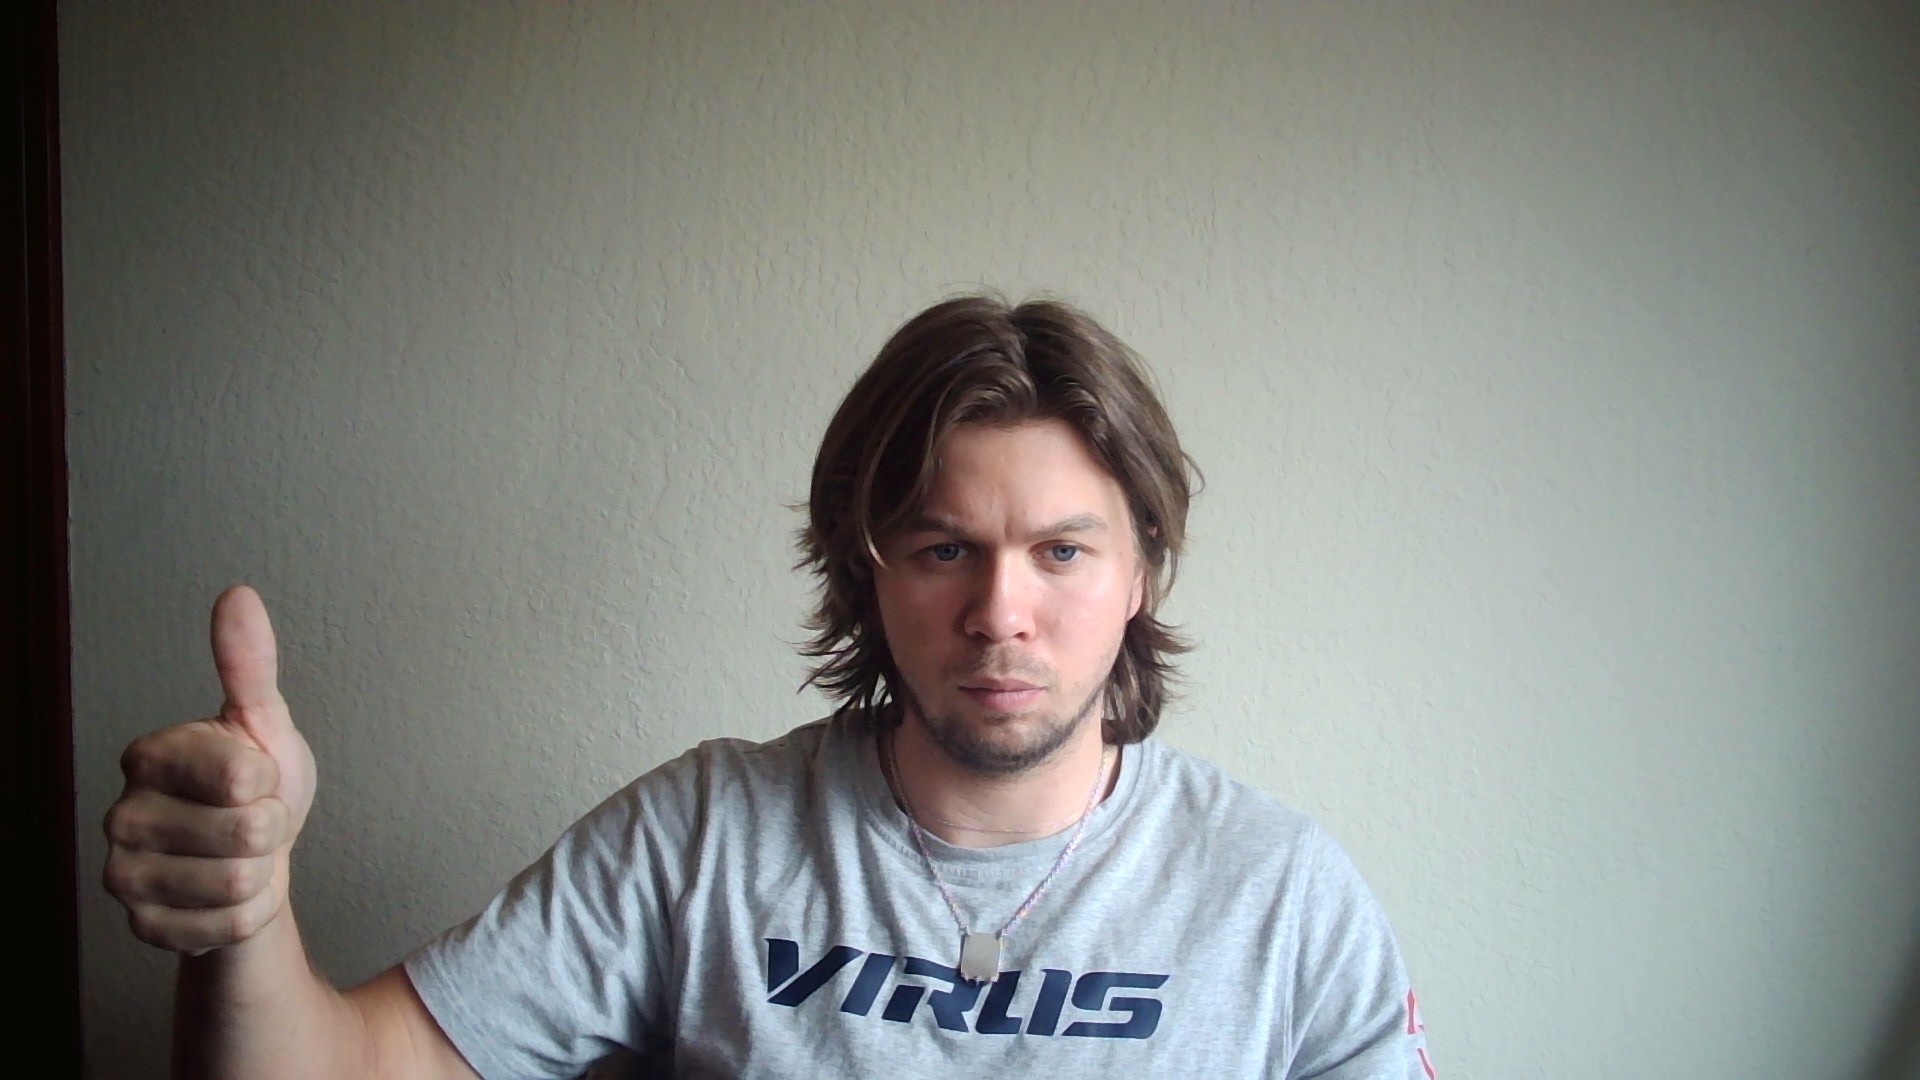good: (102, 584, 318, 959)
